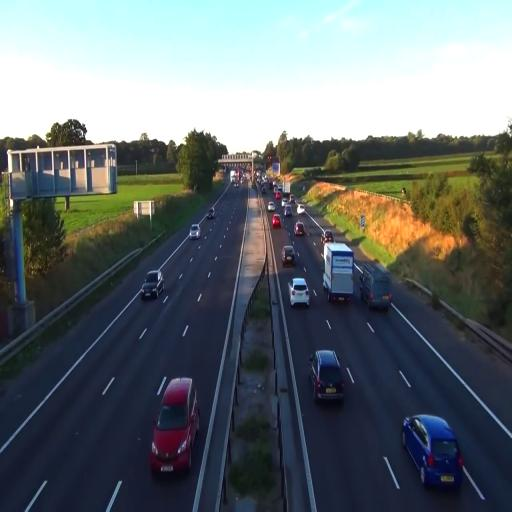vehicle: (150, 375, 200, 478), (150, 375, 200, 477), (402, 413, 464, 490), (353, 256, 392, 310), (322, 240, 354, 305), (310, 349, 346, 403), (289, 276, 310, 308), (141, 272, 161, 302), (282, 245, 296, 268), (270, 212, 282, 230), (294, 221, 306, 237), (190, 223, 200, 237)
